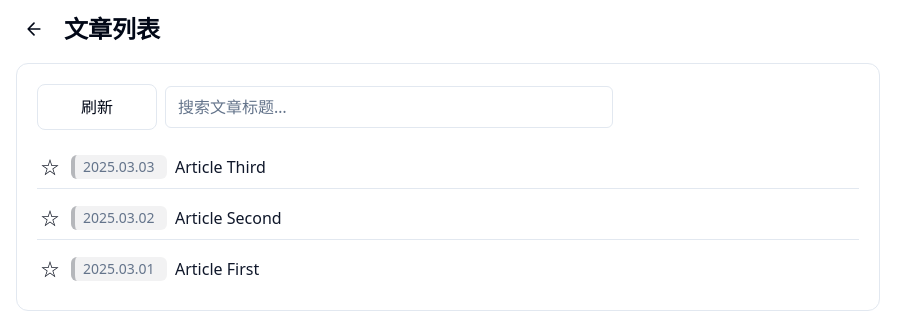
Test: Article list interaction (S010) › Search filter (S021) › typing in search filters articles by title in real time
The image size is (897, 328).
Expected: the link "Article First" is shown, [175,258,259,280]
Type "Third" into the search field labelled "搜索文章标题…" at (389, 107), box [165,86,613,128]
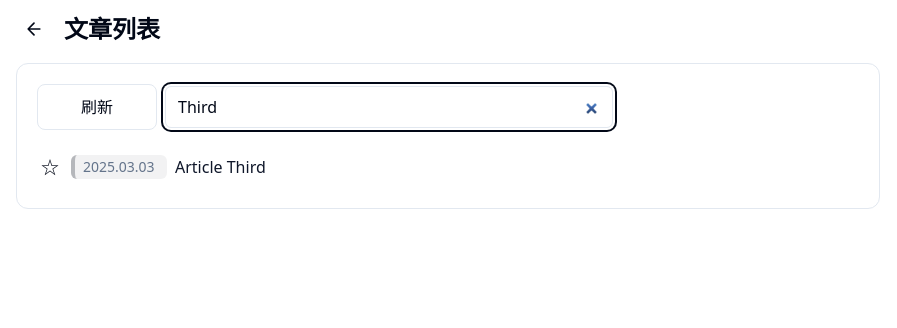
Expected: the link "Article Third" is shown, [175,156,266,178]
Expected: the link "Article First" is gone
Expected: the link "Article Second" is gone
